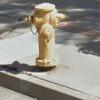Hydrant: (18, 2, 75, 76)
